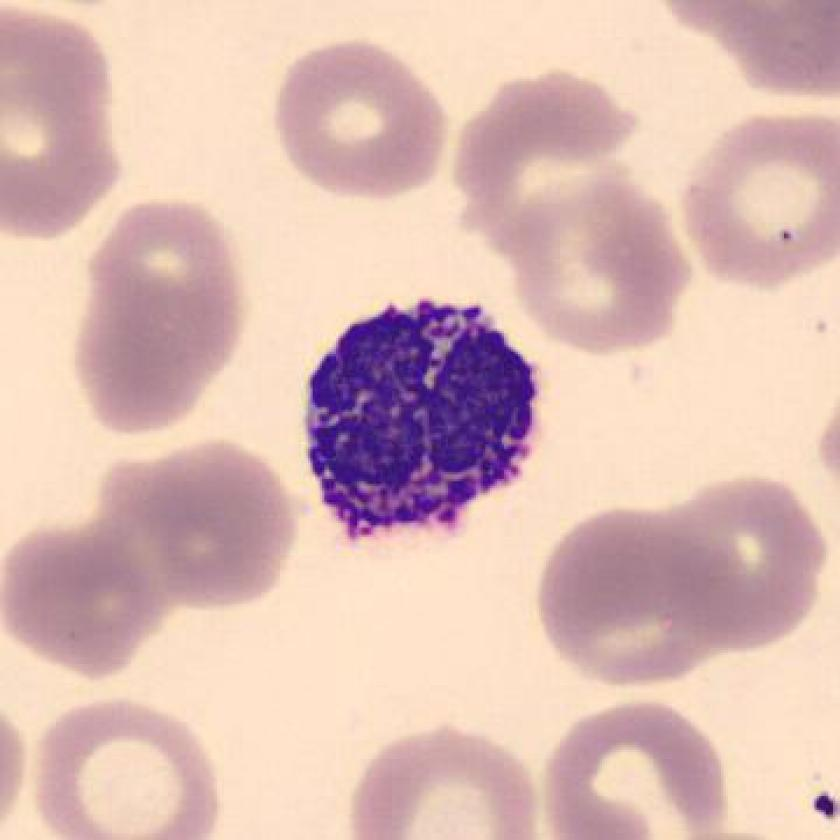basophil: (293, 288, 559, 549)
